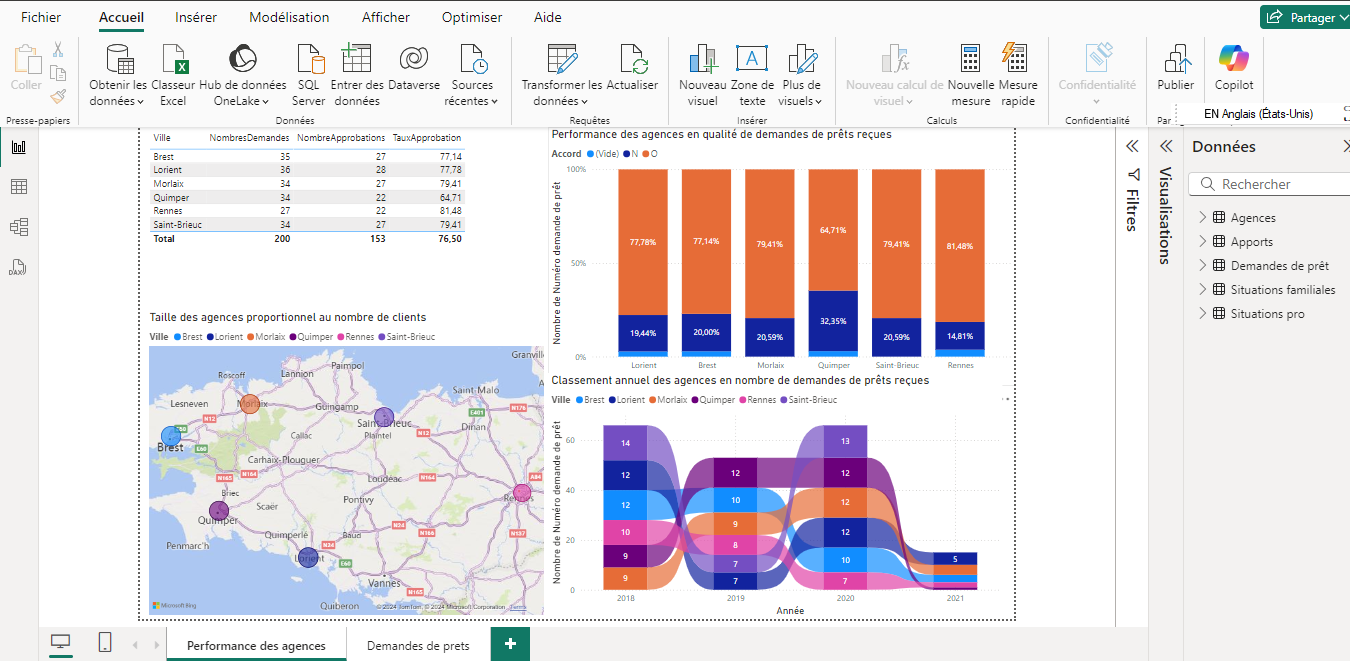

What the dashboard file says about the page in this screenshot:
{"tool":"powerbi","page":{"name":"Performance des agences","canvas":[1280,720],"ordinal":0},"visuals":[{"type":"tableEx","fields":{"Values":["Agences.Ville","Demandes de prêt.NombresDemandes","Demandes de prêt.NombreApprobations","Demandes de prêt.TauxApprobation"]},"box":[9.5,0,482.9,177.1],"z":0},{"type":"hundredPercentStackedColumnChart","title":"Performance des agences en qualité de demandes de prêts reçues","fields":{"Category":["Agences.Ville"],"Y":["CountNonNull(Demandes de prêt.Numéro demande de prêt)"],"Series":["Demandes de prêt.Accord"]},"box":[596.7,0,683.3,379.4],"z":1000},{"type":"map","title":"Taille des agences proportionnel au nombre de clients","fields":{"Category":["Agences.Localisation"],"Series":["Agences.Ville"],"Size":["CountNonNull(Demandes de prêt.Numéro client)"]},"box":[9.5,267.8,587.3,452.3],"z":2000},{"type":"ribbonChart","title":"Classement annuel des agences en nombre de demandes de prêts reçues ","fields":{"Category":["Demandes de prêt.Date de demande.Variation.Hiérarchie de dates.Année"],"Y":["CountNonNull(Demandes de prêt.Numéro demande de prêt)"],"Series":["Agences.Ville"]},"box":[596.8,359.5,665.3,360.6],"z":3000}]}

Visuals, with their boxes on the page's 1280x720 design canvas (x1, y1, x2, y2). These are canvas units, not pixel positions in the 1350x661 screenshot, which may show the page scaled, cropped or inside an application window:
tableEx - Agences.Ville x Demandes de prêt.NombresDemandes: <box>10,0,492,177</box>
"Performance des agences en qualité de demandes de prêts reçues" hundredPercentStackedColumnChart: <box>597,0,1280,379</box>
"Taille des agences proportionnel au nombre de clients" map: <box>10,268,597,720</box>
"Classement annuel des agences en nombre de demandes de prêts reçues " ribbonChart: <box>597,360,1262,720</box>
